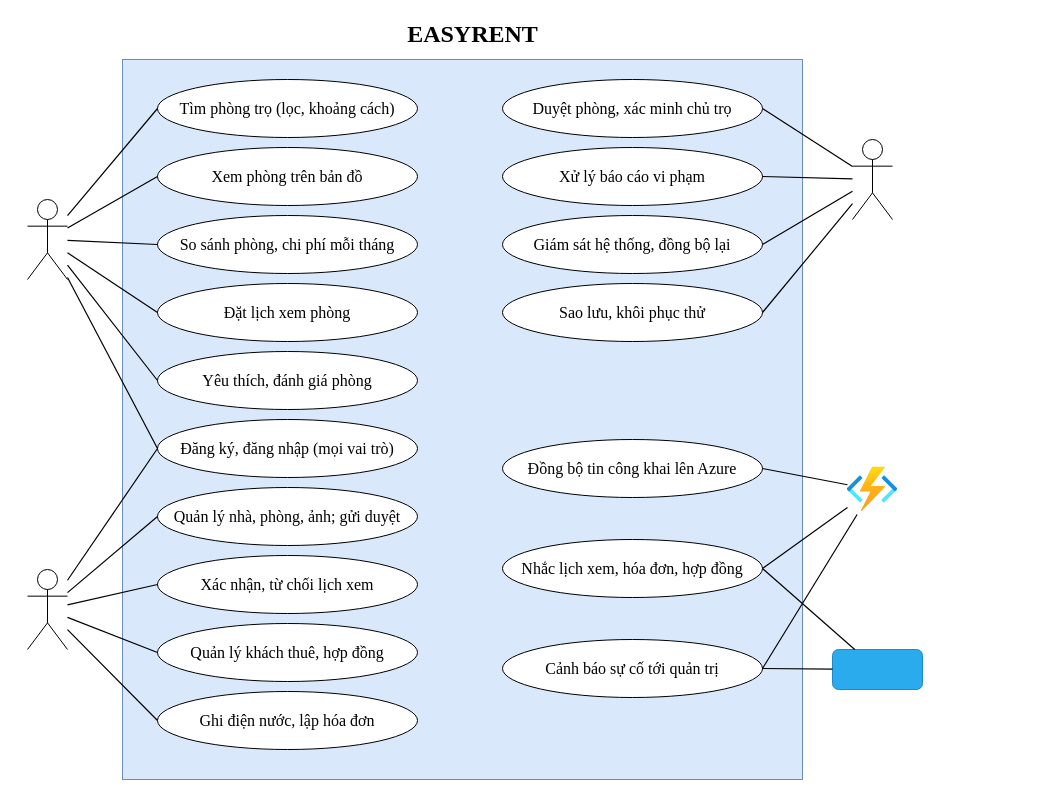
Some shapes in this 1043 by 797 pixel diagram are drawn without their labels. Each missing label, with the centre of its shape:
Azure Cloud (Functions, Monitor): (872,489)
Chủ trọ: (47,609)
Quản trị viên: (872,179)
Sinh viên: (47,239)
Telegram Bot: (877,669)
